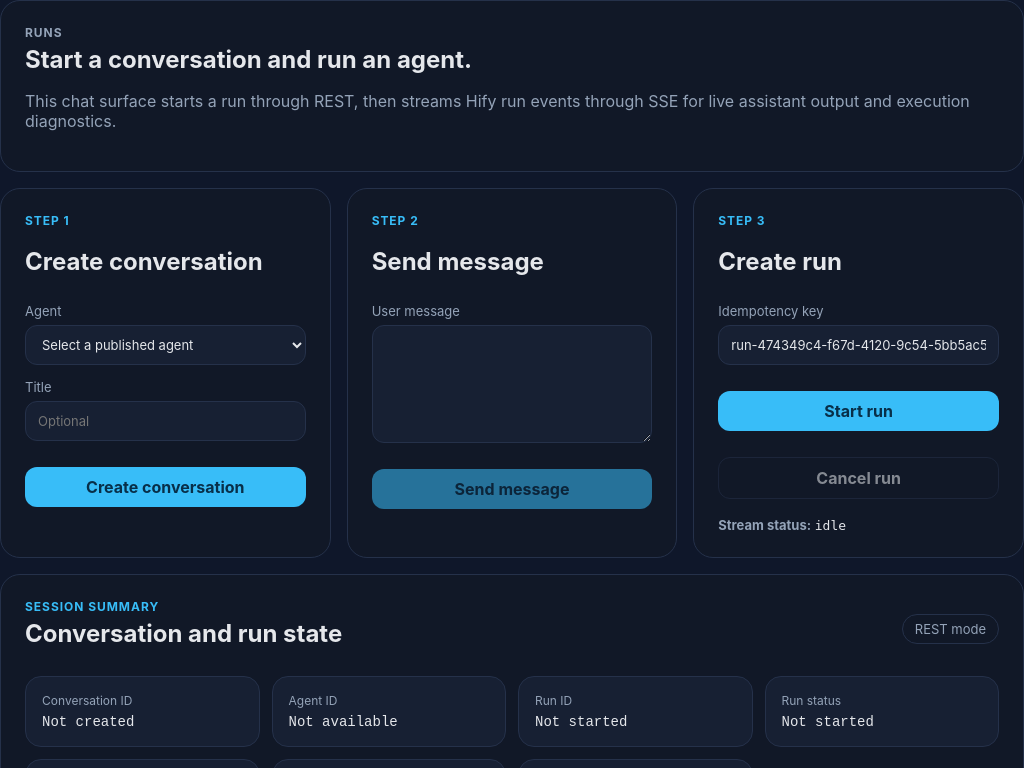
Scenario: ChatRunsWorkspace › creates conversations with agent and title input
Select "Support Agent · v1" in the dropdown labelled "Agent" at [165, 345], box [25, 325, 306, 365]
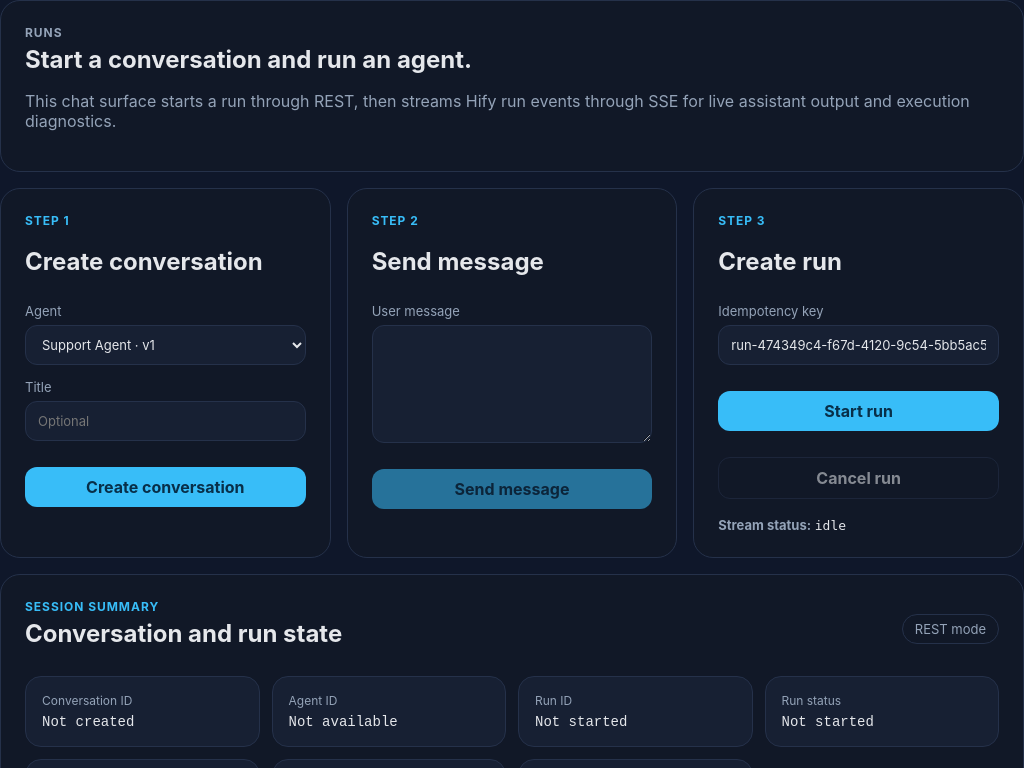
Type "Support chat" into the field labelled "Title" at [165, 421], box [25, 401, 306, 441]
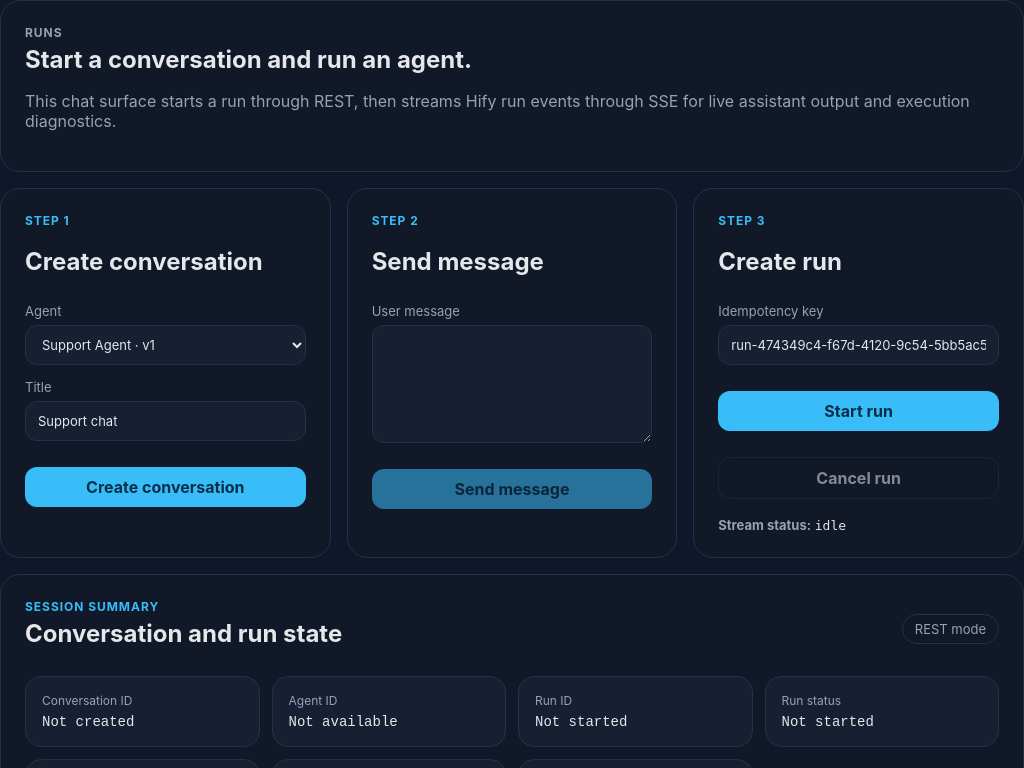
Click the button "Create conversation" at [165, 487], box [25, 467, 306, 507]
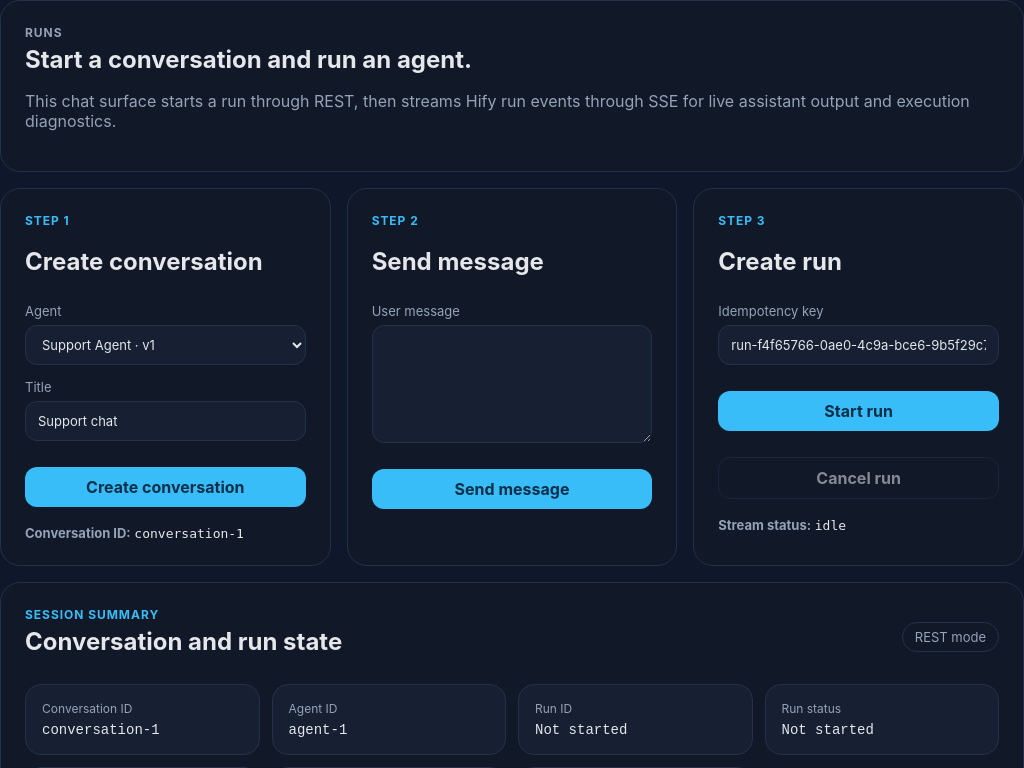
Expected: the text "conversation-1" below "Title" is shown, [134, 526, 244, 541]
